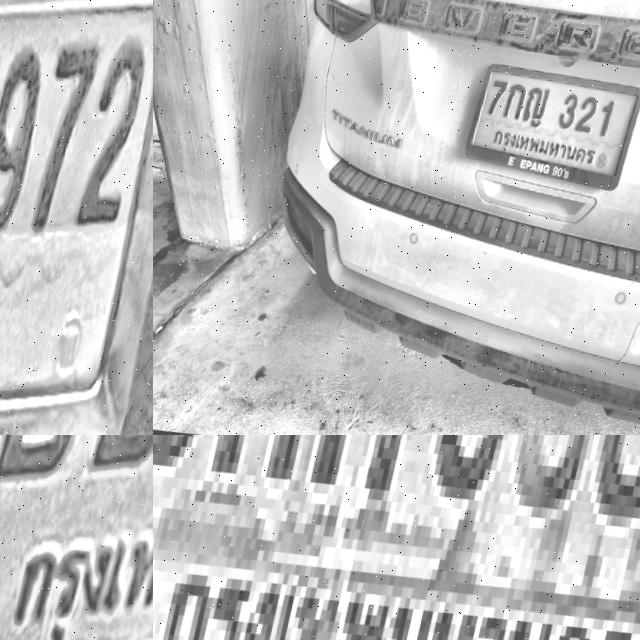license-plate: (153, 435, 640, 640), (0, 0, 153, 435), (0, 435, 153, 640), (460, 54, 640, 208)
